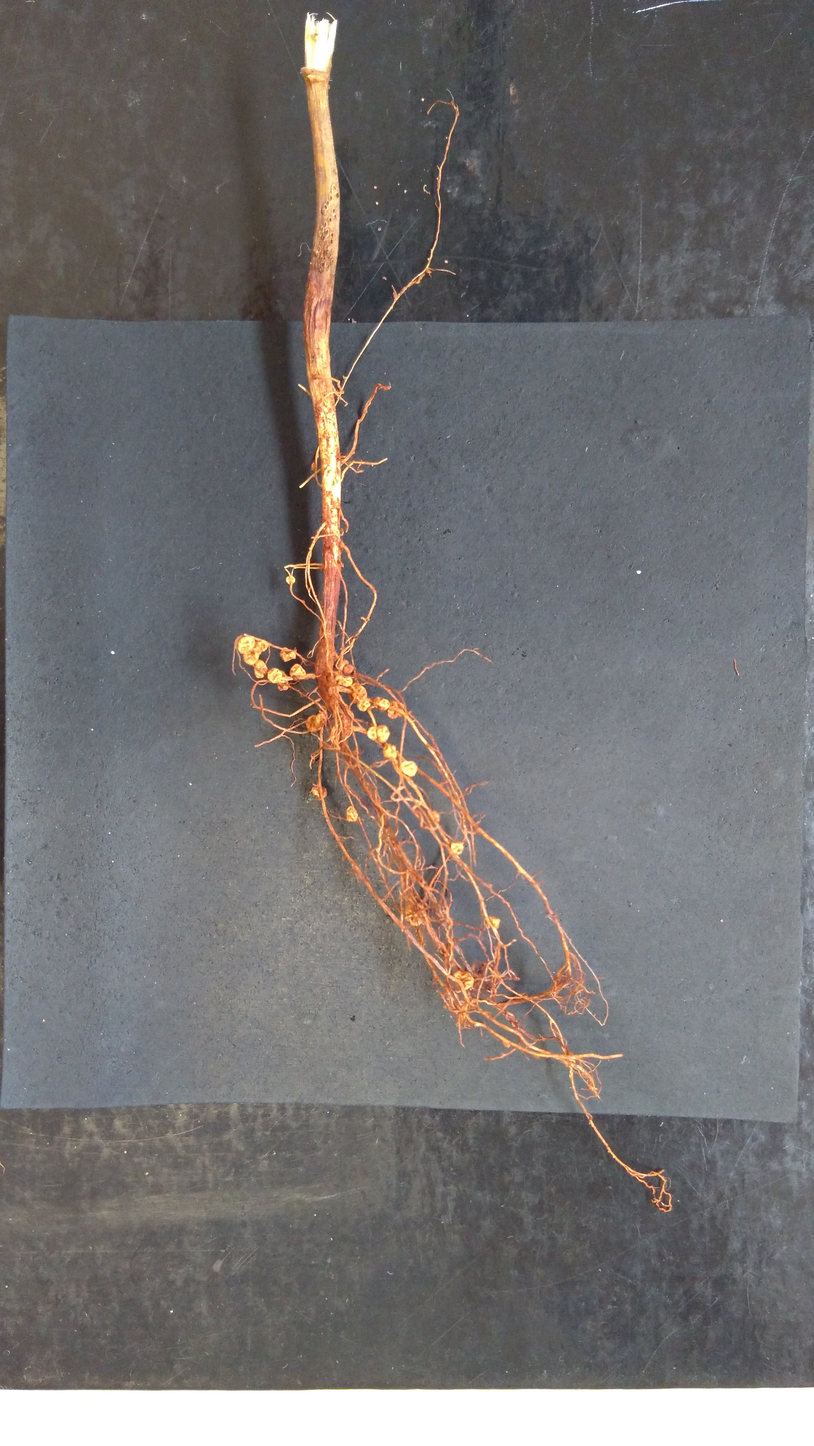nodule: (448, 967, 480, 994), (404, 898, 426, 928), (305, 711, 326, 735), (235, 634, 256, 653), (349, 681, 368, 702), (398, 760, 420, 778), (274, 669, 290, 693), (252, 658, 268, 680), (380, 741, 398, 760), (241, 649, 260, 666), (376, 724, 392, 744), (265, 666, 282, 684), (486, 912, 503, 929), (289, 662, 307, 678), (278, 647, 297, 662), (344, 804, 359, 823), (311, 785, 328, 801), (372, 696, 390, 711), (253, 637, 269, 653), (336, 674, 354, 688), (365, 724, 378, 742), (450, 841, 464, 856), (355, 698, 371, 711), (336, 658, 349, 670), (285, 574, 297, 586), (430, 810, 440, 823), (343, 664, 354, 674)
